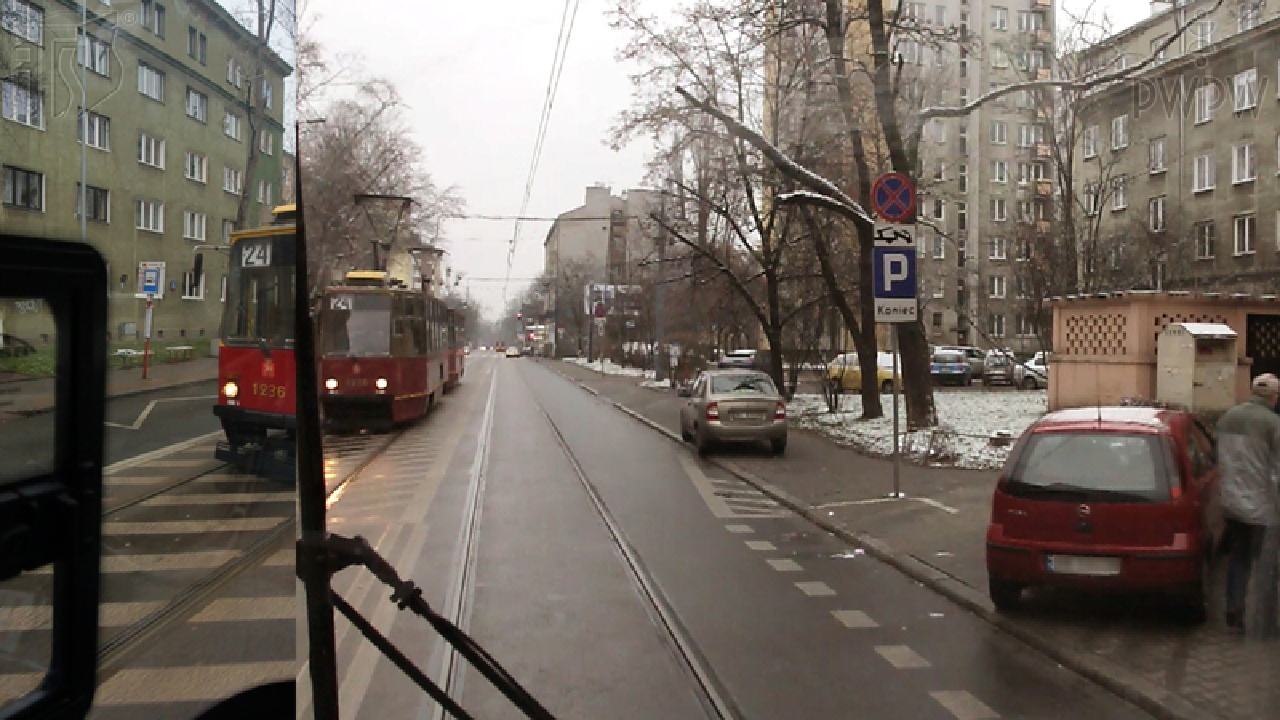B36: (870, 173, 917, 223)
D18: (872, 246, 917, 300)
